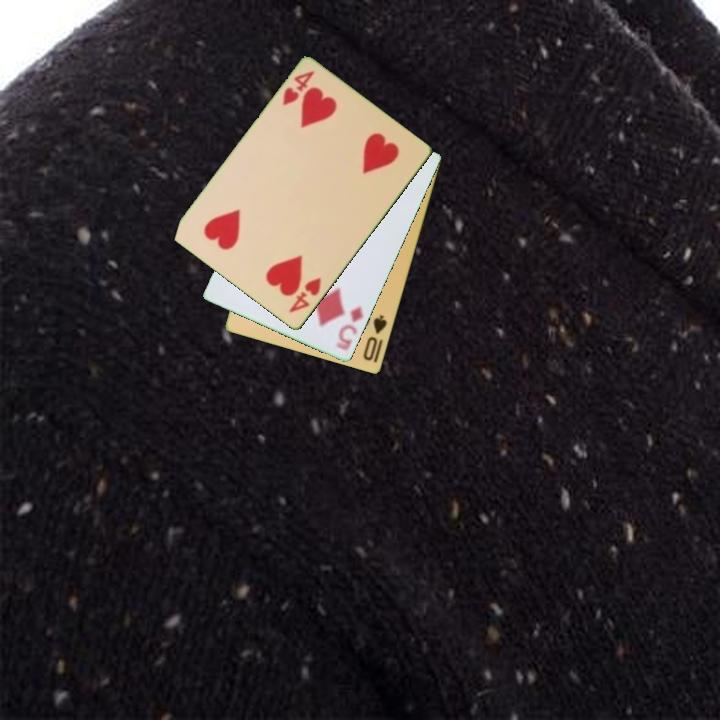10s: (360, 312, 390, 364)
4h: (285, 274, 324, 316), (279, 67, 317, 109)
5d: (332, 302, 366, 354)
